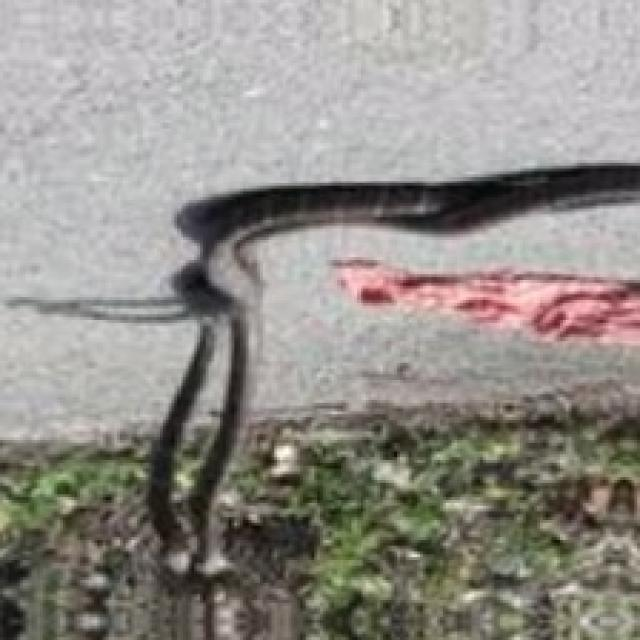king cobra: (0, 163, 637, 637)
